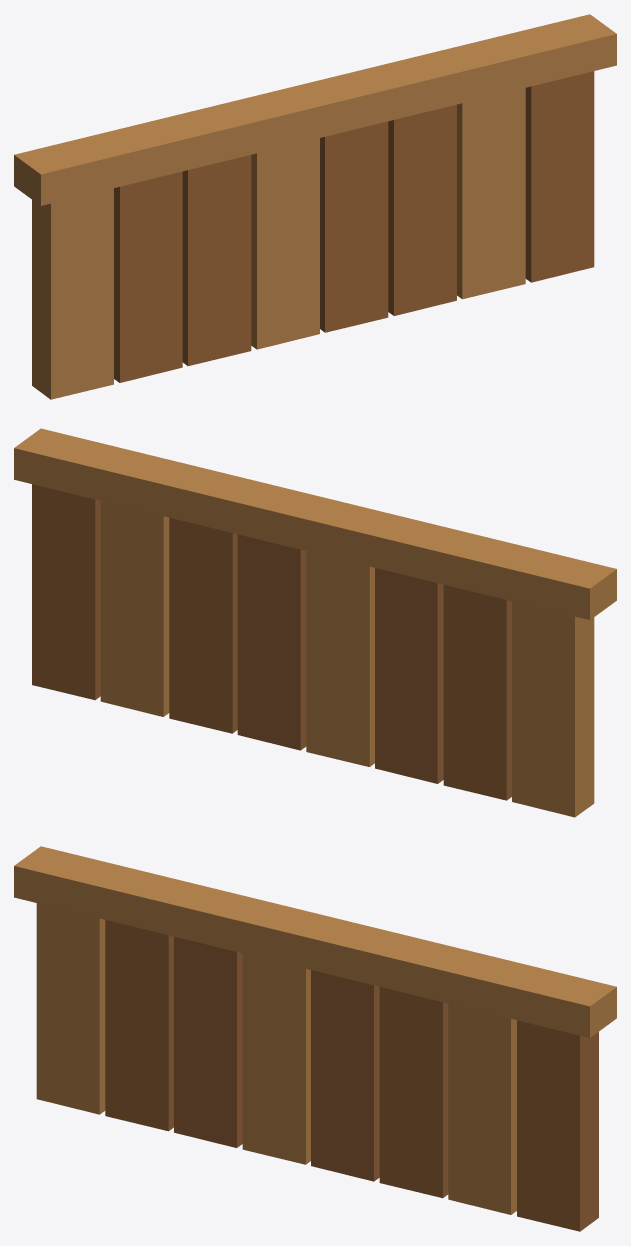
Rendered from wood_half_wall.glb.
The picture shows the model from 3 angles, top to bottom: view 1: azimuth 30°, elevation 25°; view 2: azimuth 150°, elevation 25°; view 3: azimuth 330°, elevation 25°; orthographic projection.
Visible parts, largest first — view 1: Cap, Half_Wall_1, Half_Wall_3, Half_Wall_8, Half_Wall_5, Half_Wall_7, Half_Wall_4, Half_Wall_2, Half_Wall_6; view 2: Cap, Half_Wall_1, Half_Wall_7, Half_Wall_5, Half_Wall_4, Half_Wall_2, Half_Wall_8, Half_Wall_6, Half_Wall_3; view 3: Cap, Half_Wall_8, Half_Wall_1, Half_Wall_6, Half_Wall_2, Half_Wall_4, Half_Wall_5, Half_Wall_3, Half_Wall_7.
Part boxes in pixels (bbox=[...]): Cap: bbox=[14, 14, 616, 205]; Half_Wall_1: bbox=[32, 188, 113, 399]; Half_Wall_3: bbox=[182, 155, 251, 366]; Half_Wall_8: bbox=[525, 71, 594, 282]; Half_Wall_5: bbox=[320, 121, 388, 332]; Half_Wall_7: bbox=[457, 88, 525, 299]; Half_Wall_4: bbox=[251, 138, 319, 349]; Half_Wall_2: bbox=[114, 171, 182, 382]; Half_Wall_6: bbox=[388, 104, 456, 315]; Cap: bbox=[14, 428, 616, 619]; Half_Wall_1: bbox=[512, 601, 594, 817]; Half_Wall_7: bbox=[100, 501, 169, 716]; Half_Wall_5: bbox=[237, 534, 306, 750]; Half_Wall_4: bbox=[306, 551, 374, 766]; Half_Wall_2: bbox=[443, 584, 511, 800]; Half_Wall_8: bbox=[32, 484, 100, 700]; Half_Wall_6: bbox=[169, 517, 237, 733]; Half_Wall_3: bbox=[375, 568, 443, 783]; Cap: bbox=[14, 846, 616, 1037]; Half_Wall_8: bbox=[517, 1020, 598, 1231]; Half_Wall_1: bbox=[36, 903, 105, 1114]; Half_Wall_6: bbox=[379, 987, 448, 1198]; Half_Wall_2: bbox=[105, 920, 173, 1131]; Half_Wall_4: bbox=[242, 953, 310, 1164]; Half_Wall_5: bbox=[311, 970, 379, 1181]; Half_Wall_3: bbox=[174, 936, 242, 1147]; Half_Wall_7: bbox=[448, 1003, 516, 1214].
Size of the model in its own units: 4.2 by 1.63 by 0.34.
